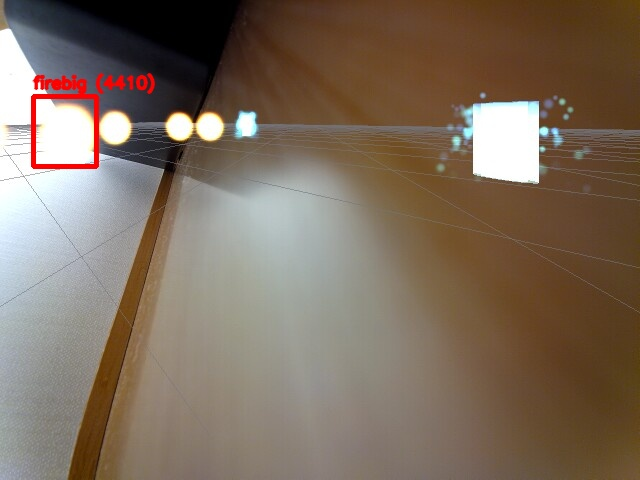firebig: (33, 96, 96, 166)
